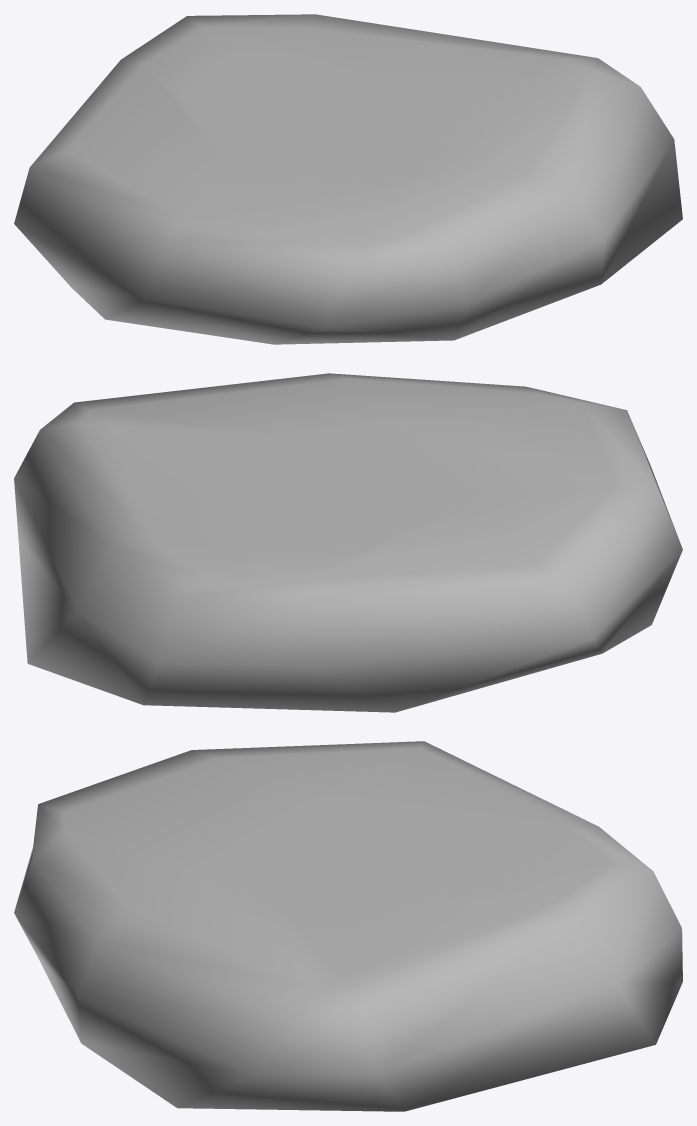
Rendered from Rock 2.fbx.
3 views of the same model, one above another, from view 1: azimuth 30°, elevation 25°; view 2: azimuth 150°, elevation 25°; view 3: azimuth 270°, elevation 25° (orthographic). The views are drawn at different scales.
Visible parts, largest first — view 1: Rock 2; view 2: Rock 2; view 3: Rock 2.
Boxes of the visible parts, box(x1,y1,x2,y2) form: Rock 2: box(14, 14, 682, 344); Rock 2: box(14, 373, 682, 712); Rock 2: box(14, 741, 682, 1111).
Bounding box in the file's own units: 1.72 × 0.2949 × 1.66.
